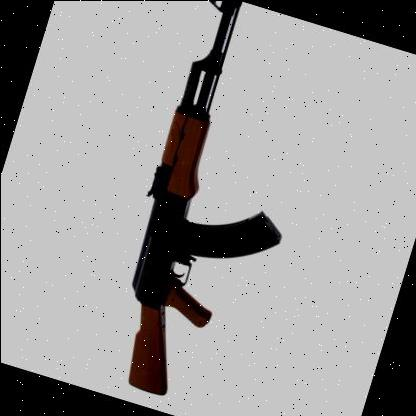rifle: (67, 0, 360, 416)
